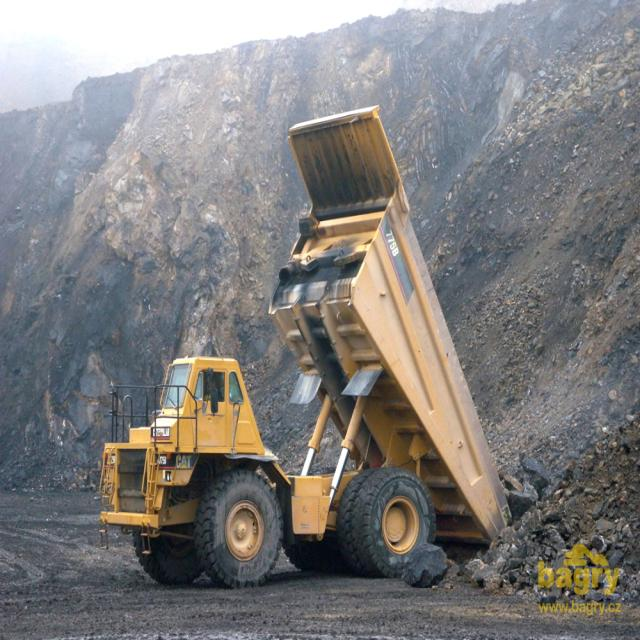dump_truck: (91, 96, 541, 605)
